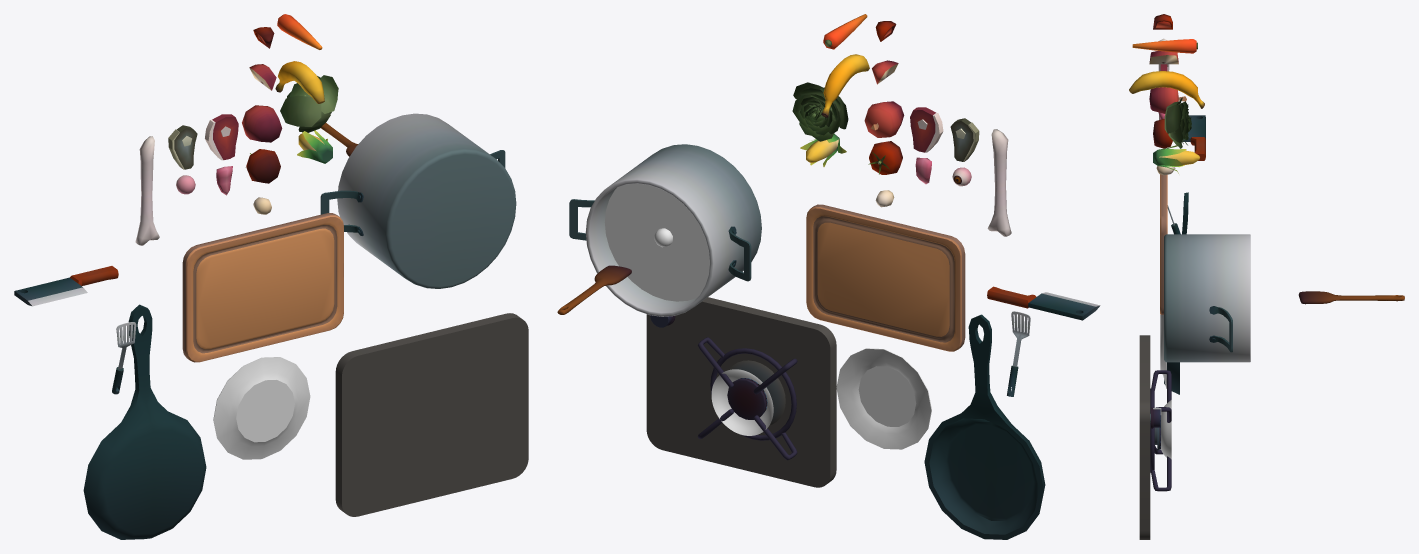
Rendered from items.dae.
The picture shows the model from 3 angles, left to right: view 1: azimuth 30°, elevation 25°; view 2: azimuth 150°, elevation 25°; view 3: azimuth 270°, elevation 25°; orthographic projection. The views are drawn at different scales.
Parts seen in each view (by area): view 1: GasStove, pot, cuttingboard, skillet, plate, salad, knife, bone, steak, apple, banana, zombie-steak (+5 smaller); view 2: GasStove, cuttingboard, skillet, pot, potWater-highPoly, plate, potWater, salad, knife, FlameShape, bone, steak (+8 smaller); view 3: pot, GasStove, banana, salad, spatule, cuttingboard, corn, Cylinder, knife, apple, skillet, FlameShape (+3 smaller).
Boxes of the visible parts, x1,y1,x2,y2 form: GasStove: (335, 313, 528, 516); pot: (337, 113, 516, 288); cuttingboard: (182, 213, 343, 362); skillet: (83, 304, 206, 539); plate: (213, 357, 310, 459); salad: (280, 75, 338, 132); knife: (14, 266, 118, 306); bone: (135, 136, 159, 245); steak: (205, 114, 238, 160); apple: (242, 105, 282, 142); banana: (275, 61, 324, 103); zombie-steak: (168, 125, 197, 169); GasStove: (646, 297, 836, 487); cuttingboard: (806, 204, 965, 351); skillet: (924, 314, 1045, 539); pot: (585, 144, 761, 316); potWater-highPoly: (604, 183, 709, 301); plate: (836, 348, 931, 449); potWater: (605, 183, 709, 301); salad: (792, 82, 848, 141); knife: (987, 286, 1100, 320); FlameShape: (711, 369, 773, 435); bone: (987, 129, 1011, 236); steak: (910, 107, 943, 152); pot: (1164, 234, 1250, 362); GasStove: (1139, 335, 1171, 539); banana: (1129, 71, 1204, 108); salad: (1164, 97, 1191, 148); spatule: (1298, 291, 1404, 304); cuttingboard: (1160, 174, 1167, 314); corn: (1153, 145, 1199, 173); Cylinder: (1132, 39, 1197, 53); knife: (1182, 115, 1205, 160); apple: (1149, 87, 1186, 113); skillet: (1164, 192, 1188, 394); FlameShape: (1161, 400, 1171, 459).
Size of the model in its own units: 1.3 by 0.7219 by 1.23.
Materials: 4 (1 with a texture image).
